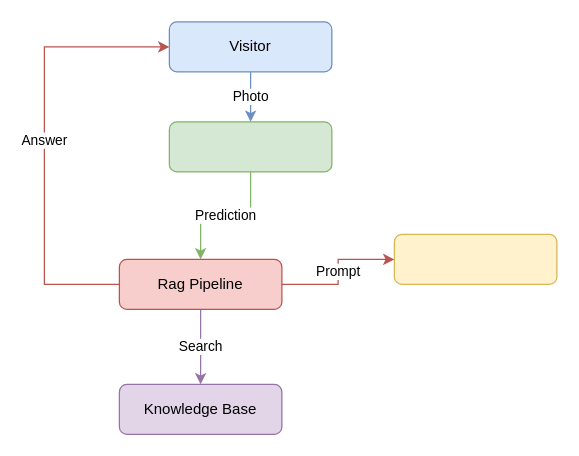
Image size: 579x456. Some labels were removed from this diagram. The centre of each missing label's shape, as x and y in pixels:
Groq API: the point at 475,258
Resnet50 Model: the point at 250,146
